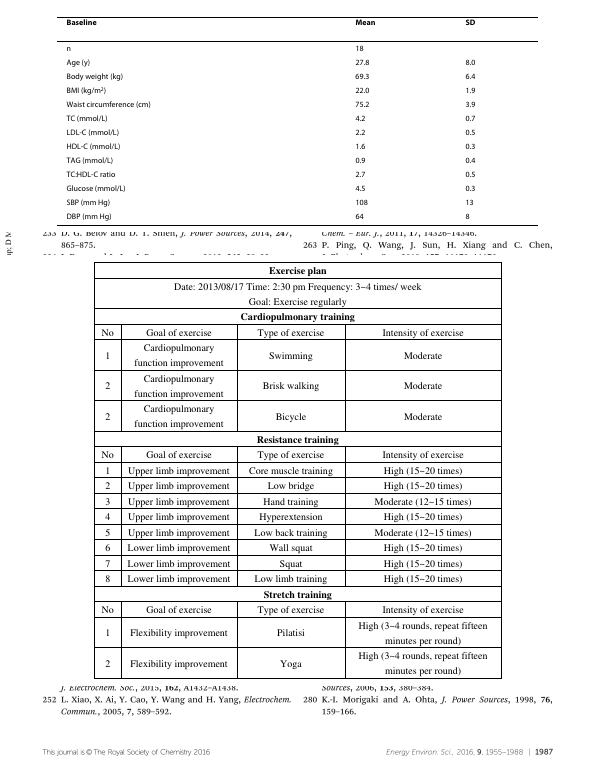bordered: (93, 260, 501, 678)
borderless: (56, 15, 538, 225)
cell: (172, 280, 422, 308), (357, 649, 488, 678), (357, 619, 488, 647), (133, 341, 224, 370), (133, 372, 224, 400), (133, 403, 224, 431), (239, 310, 355, 324), (126, 541, 231, 555), (126, 479, 230, 493), (126, 557, 231, 570), (126, 573, 231, 586), (126, 464, 230, 477), (126, 495, 230, 508), (126, 511, 230, 524), (126, 526, 230, 539), (373, 495, 472, 508), (373, 526, 472, 539), (129, 627, 228, 640), (129, 657, 228, 670), (381, 448, 464, 462), (382, 479, 463, 493), (382, 541, 463, 555), (247, 464, 333, 477), (255, 433, 339, 446), (381, 326, 464, 339), (381, 604, 464, 617), (382, 464, 463, 477), (382, 511, 463, 524), (382, 557, 463, 570), (382, 573, 463, 586), (253, 526, 328, 539), (253, 573, 328, 586), (256, 448, 325, 462), (145, 448, 212, 462), (262, 588, 332, 601), (256, 326, 325, 339), (256, 604, 325, 617), (145, 326, 212, 339), (145, 604, 212, 617), (66, 100, 152, 110), (258, 511, 323, 524), (267, 264, 327, 278), (261, 379, 320, 393), (262, 495, 319, 508), (266, 479, 315, 493), (268, 541, 313, 555), (66, 184, 127, 194), (267, 349, 313, 362), (66, 72, 124, 82), (402, 379, 443, 393), (66, 142, 121, 152), (66, 128, 120, 138), (402, 349, 443, 362), (402, 410, 443, 423), (66, 170, 116, 180), (66, 156, 114, 166), (66, 212, 112, 222), (66, 198, 111, 208), (274, 410, 307, 423), (66, 114, 108, 124), (66, 86, 107, 96), (275, 627, 305, 640), (278, 557, 303, 570), (278, 657, 302, 670), (66, 18, 98, 26), (66, 58, 91, 68), (100, 448, 114, 462), (100, 326, 114, 339), (100, 604, 114, 617), (354, 18, 376, 26), (354, 58, 370, 68), (354, 72, 370, 82), (354, 86, 370, 96), (354, 100, 370, 110), (354, 198, 369, 208), (464, 58, 476, 68), (464, 72, 476, 82), (464, 86, 476, 96), (464, 100, 476, 110), (354, 114, 366, 124), (464, 114, 476, 124), (354, 128, 366, 138), (464, 128, 476, 138), (354, 142, 366, 152), (464, 142, 476, 152), (354, 156, 366, 166), (464, 156, 476, 166), (354, 170, 366, 180), (464, 170, 476, 180), (354, 184, 366, 194), (354, 44, 365, 54), (465, 184, 476, 194), (464, 198, 475, 208), (354, 212, 365, 222), (104, 379, 111, 393), (104, 479, 111, 493), (104, 541, 111, 555), (464, 18, 476, 26), (104, 349, 111, 362), (104, 410, 111, 423), (104, 464, 111, 477), (104, 495, 111, 508), (104, 511, 111, 524), (104, 526, 111, 539), (104, 557, 111, 570), (104, 573, 111, 586), (104, 627, 111, 640), (104, 657, 111, 670), (464, 212, 471, 222), (66, 44, 72, 54)
